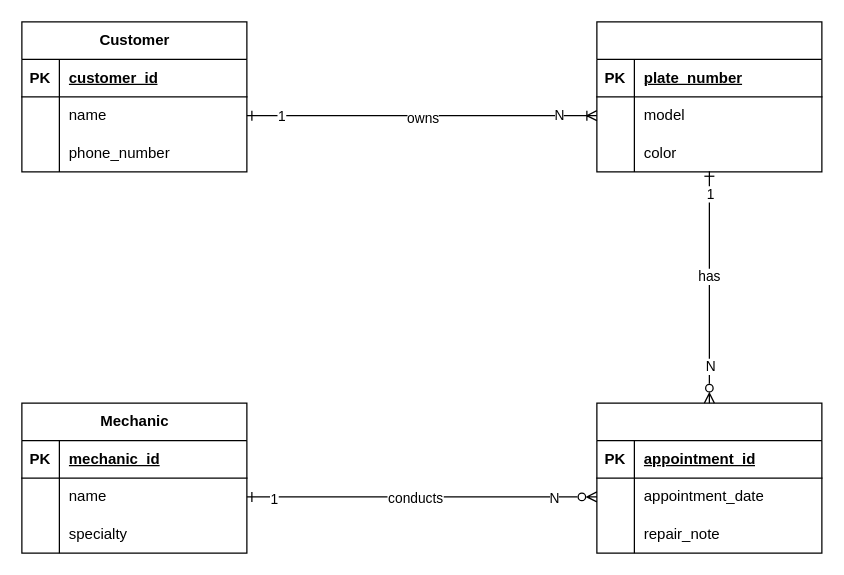
Image size: 844x575. Some labels were removed from this diagram. The box of each missing label's shape, as (x1, y1, x2, y2) in pixels:
Car: (596, 21, 822, 172)
Service_Appointment: (596, 402, 822, 553)
